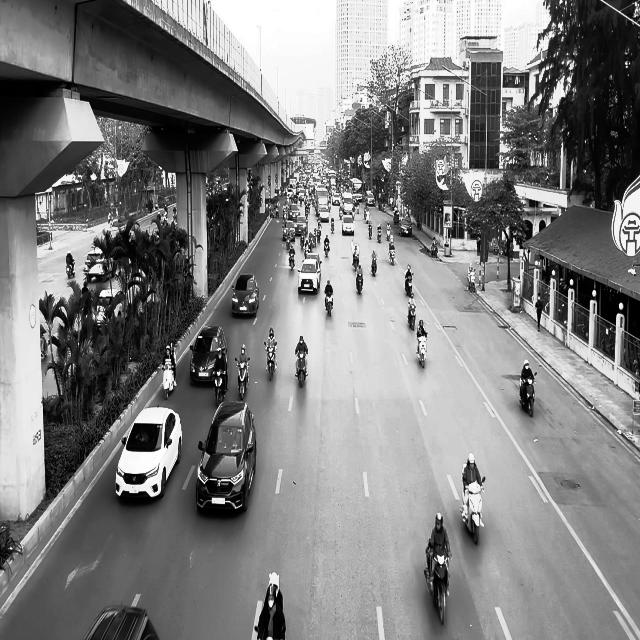car: (196, 400, 257, 512), (115, 406, 183, 500), (83, 604, 160, 639), (189, 324, 228, 384), (231, 273, 260, 317), (298, 253, 322, 294), (399, 218, 412, 236)
motorbike: (424, 544, 451, 625), (461, 471, 486, 545), (519, 372, 537, 416), (235, 357, 250, 400), (162, 362, 176, 399), (296, 347, 308, 388), (265, 342, 277, 380), (214, 370, 226, 406), (417, 332, 428, 367), (324, 293, 334, 316), (66, 258, 76, 279), (408, 305, 416, 330), (405, 273, 413, 296), (356, 272, 364, 294), (371, 257, 377, 276), (389, 247, 395, 265), (431, 242, 438, 256)
